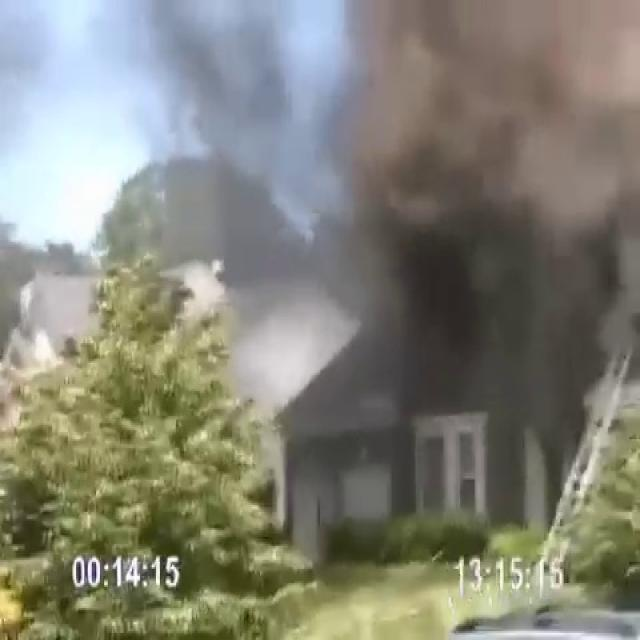Smoke: (134, 0, 640, 353)
